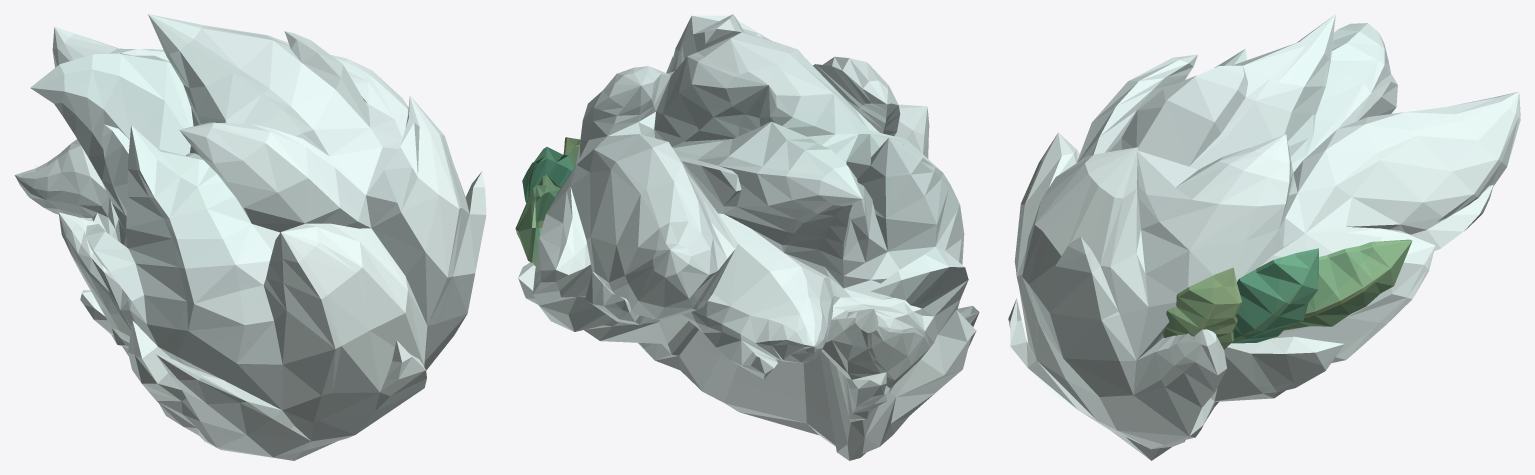
The model's file is CharSkyKid_Hair_BloomSpiky.glb.
The picture shows the model from 3 angles, left to right: view 1: azimuth 30°, elevation 25°; view 2: azimuth 150°, elevation 25°; view 3: azimuth 270°, elevation 25°; orthographic projection. The views are drawn at different scales.
Visible parts, largest first — view 1: CharSkyKid_Hair_BloomSpiky; view 2: CharSkyKid_Hair_BloomSpiky; view 3: CharSkyKid_Hair_BloomSpiky.
Boxes of the visible parts, left/top/right/bottom form: CharSkyKid_Hair_BloomSpiky: left=14, top=14, right=486, bottom=460; CharSkyKid_Hair_BloomSpiky: left=515, top=14, right=979, bottom=460; CharSkyKid_Hair_BloomSpiky: left=1008, top=14, right=1520, bottom=460.
Size of the model in its own units: 3.05 by 3.29 by 3.84.
Materials: 1 (1 with a texture image).
